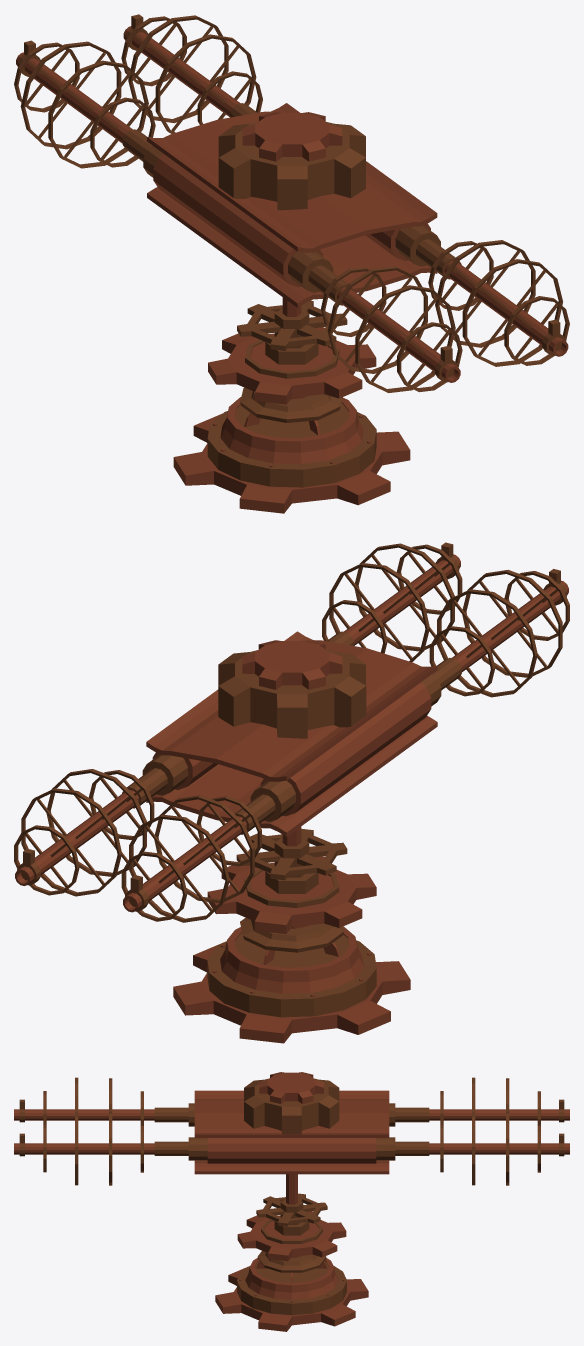
File: Laser_Quad.glb
3 views of the same model, one above another, from view 1: azimuth 30°, elevation 25°; view 2: azimuth 150°, elevation 25°; view 3: azimuth 270°, elevation 25° (orthographic). The views are drawn at different scales.
Parts seen in each view (by area): view 1: Laser_Quad_Gun, Laser_Quad_Base, Laser_Quad_Mid; view 2: Laser_Quad_Gun, Laser_Quad_Base, Laser_Quad_Mid; view 3: Laser_Quad_Gun, Laser_Quad_Base, Laser_Quad_Mid.
Boxes of the visible parts, left/top/right/bottom form: Laser_Quad_Gun: left=14, top=14, right=569, bottom=392; Laser_Quad_Base: left=173, top=335, right=410, bottom=513; Laser_Quad_Mid: left=208, top=297, right=376, bottom=404; Laser_Quad_Gun: left=14, top=542, right=569, bottom=922; Laser_Quad_Base: left=173, top=868, right=410, bottom=1043; Laser_Quad_Mid: left=207, top=827, right=376, bottom=933; Laser_Quad_Gun: left=14, top=1072, right=569, bottom=1185; Laser_Quad_Base: left=215, top=1216, right=368, bottom=1331; Laser_Quad_Mid: left=237, top=1174, right=346, bottom=1261.
Bounding box in the file's own units: 1.39 × 2.16 × 5.
